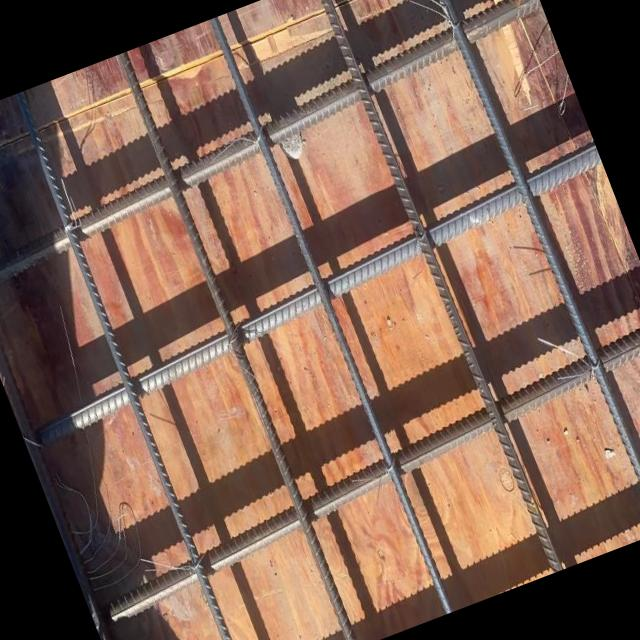ribbed bar: (10, 142, 627, 450), (72, 317, 640, 631), (0, 0, 566, 292), (208, 13, 456, 617), (116, 49, 360, 640), (313, 0, 563, 576), (11, 91, 251, 640), (413, 0, 640, 537)
